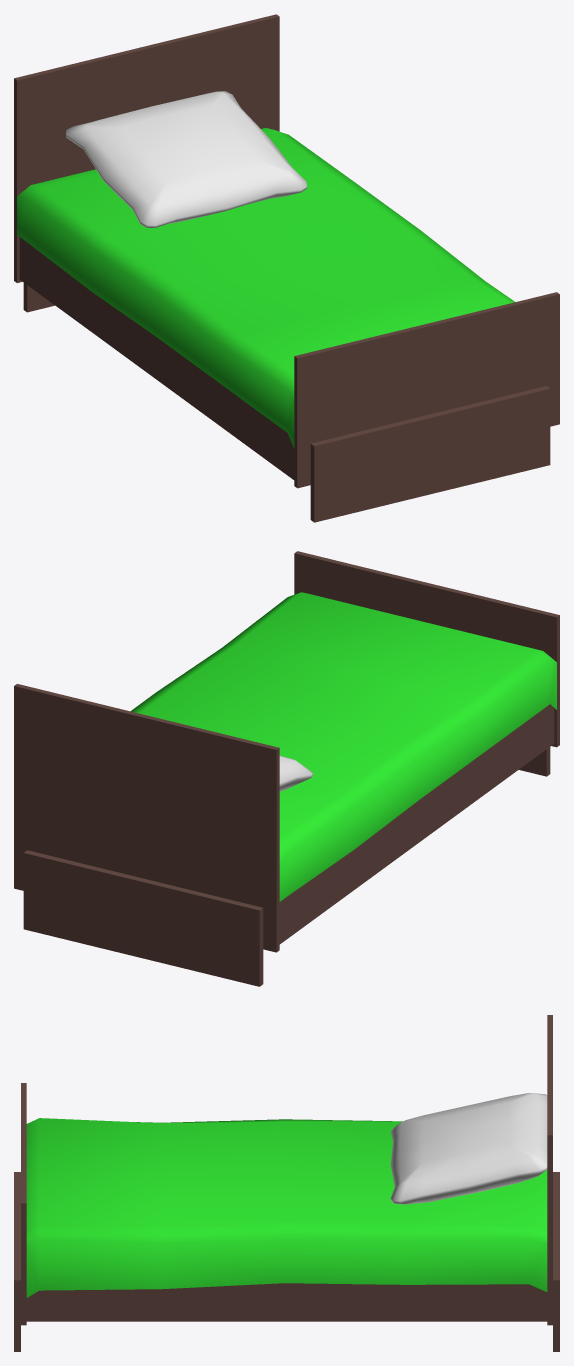
Rendered from Bed.fbx.
3 views of the same model, one above another, from view 1: azimuth 30°, elevation 25°; view 2: azimuth 150°, elevation 25°; view 3: azimuth 270°, elevation 25° (orthographic). The views are drawn at different scales.
Parts seen in each view (by area): view 1: SofaPillows.002; view 2: SofaPillows.002; view 3: SofaPillows.002.
Part boxes in pixels (left/top/right/bottom): SofaPillows.002: left=14, top=14, right=559, bottom=522; SofaPillows.002: left=14, top=551, right=559, bottom=986; SofaPillows.002: left=14, top=1015, right=559, bottom=1351.
Size of the model in its own units: 80.85 by 68.07 by 151.
